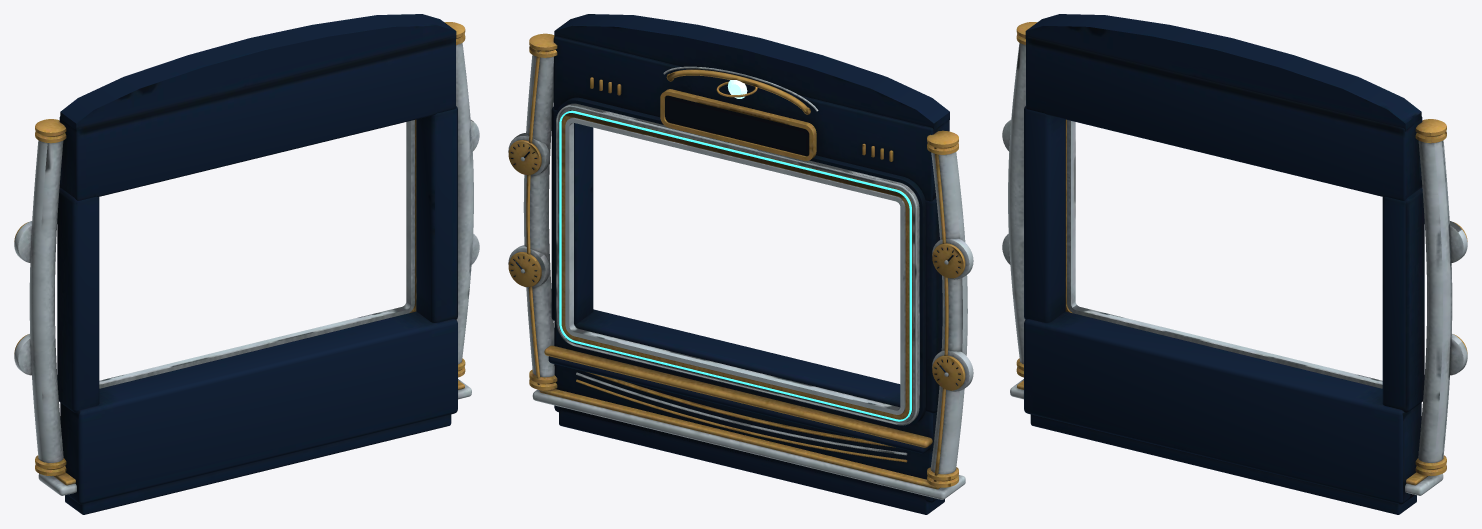
The picture shows the model from 3 angles, left to right: view 1: azimuth 30°, elevation 25°; view 2: azimuth 150°, elevation 25°; view 3: azimuth 330°, elevation 25°; orthographic projection.
Visible parts, largest first — view 1: Midnight_navy_enamel, Observatory_chrome, Warm_orbital_brass; view 2: Midnight_navy_enamel, Observatory_chrome, Warm_orbital_brass, Uniform_dark_display, Teal_neon_glow; view 3: Midnight_navy_enamel, Observatory_chrome, Warm_orbital_brass.
Boxes of the visible parts, x1,y1,x2,y2 form: Midnight_navy_enamel: [57, 14, 457, 514]; Observatory_chrome: [14, 43, 479, 495]; Warm_orbital_brass: [14, 22, 465, 485]; Midnight_navy_enamel: [510, 14, 960, 514]; Observatory_chrome: [508, 55, 973, 499]; Warm_orbital_brass: [508, 33, 965, 489]; Uniform_dark_display: [665, 95, 809, 156]; Teal_neon_glow: [559, 110, 911, 421]; Midnight_navy_enamel: [1024, 14, 1424, 514]; Observatory_chrome: [1002, 43, 1467, 495]; Warm_orbital_brass: [1016, 22, 1467, 485].
Size of the model in its own units: 9.66 by 8.4 by 1.07.
6 materials, 4 textured.
